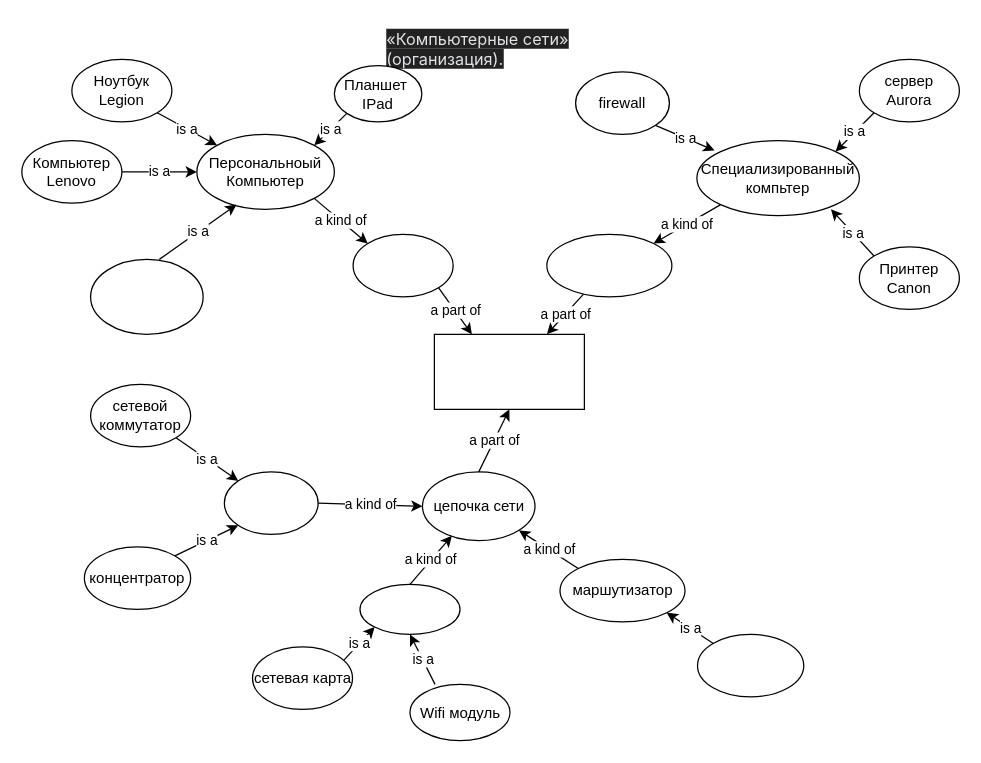
Image size: 981x763. Some labels were removed from this diagram. The centre of each missing label's shape, as x and y in pixels:
"аппаратное обеспечение" belongs at [609,265].
"Компьютерная сеть" belongs at [508,371].
"рабочая станция" belongs at [402,265].
"Роутер Xiaomi" belongs at [750,665].
"сетевой адаптер" belongs at [409,608].
"Сетевой узел" belongs at [270,502].
"Смартфон Samsung" belongs at [146,296].
